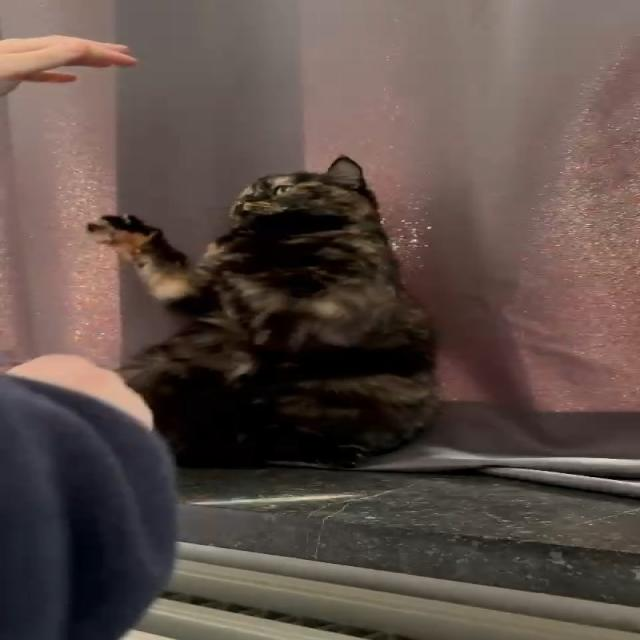authorized: (84, 154, 443, 469)
